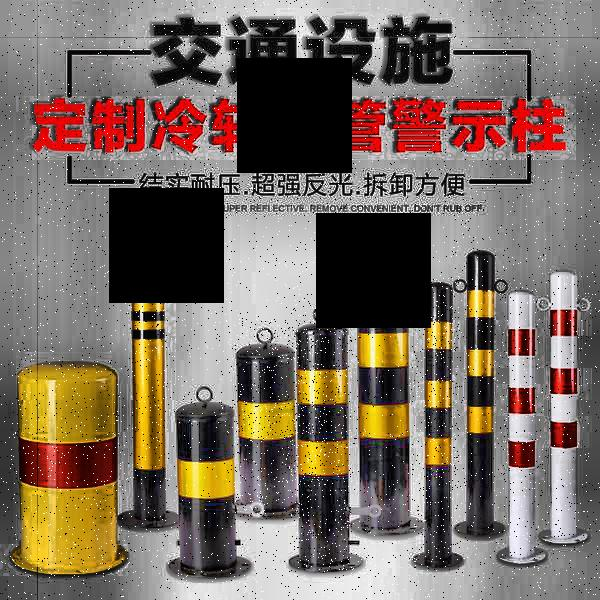bench: (12, 358, 129, 571), (293, 301, 353, 571), (412, 278, 460, 572), (123, 247, 171, 530), (499, 284, 544, 569), (234, 319, 295, 517)
